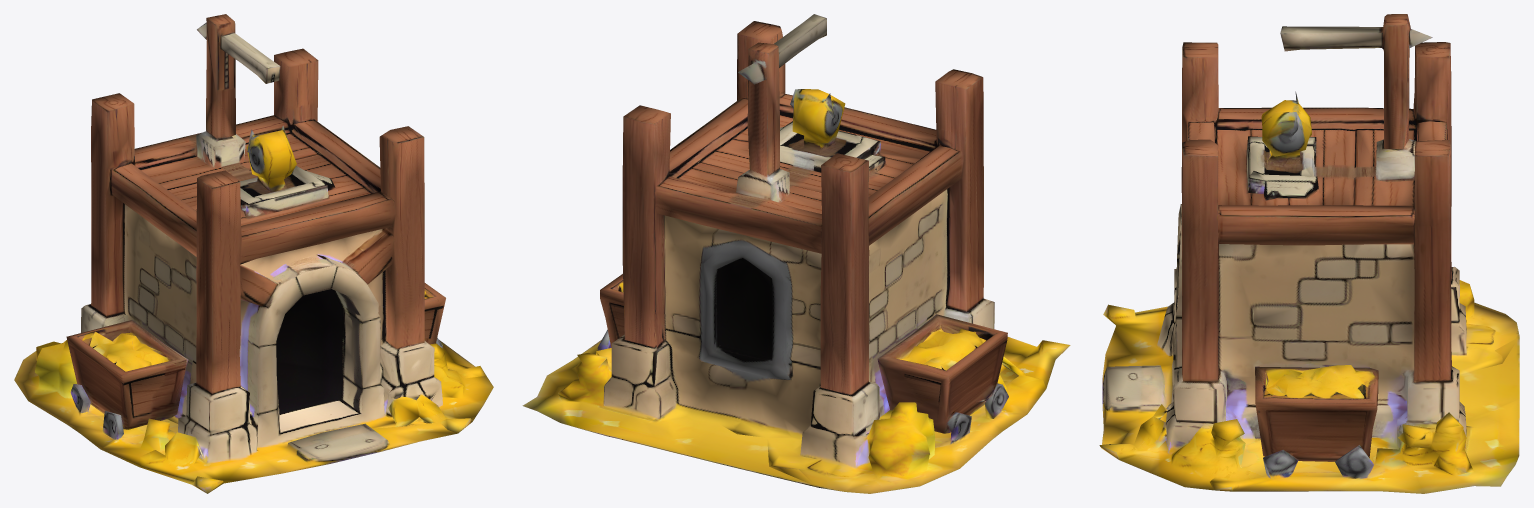
Rendered from MiningPost1.fbx.
3 renders of one model, left to right at view 1: azimuth 30°, elevation 25°; view 2: azimuth 150°, elevation 25°; view 3: azimuth 270°, elevation 25°, orthographic. The views are drawn at different scales.
Parts seen in each view (by area): view 1: Mesh_0; view 2: Mesh_0; view 3: Mesh_0.
Part boxes in pixels (left/top/right/bottom): Mesh_0: left=14, top=14, right=493, bottom=493; Mesh_0: left=522, top=14, right=1070, bottom=493; Mesh_0: left=1099, top=14, right=1519, bottom=493.
Size of the model in its own units: 192 by 167 by 170.
1 material, 1 textured.
